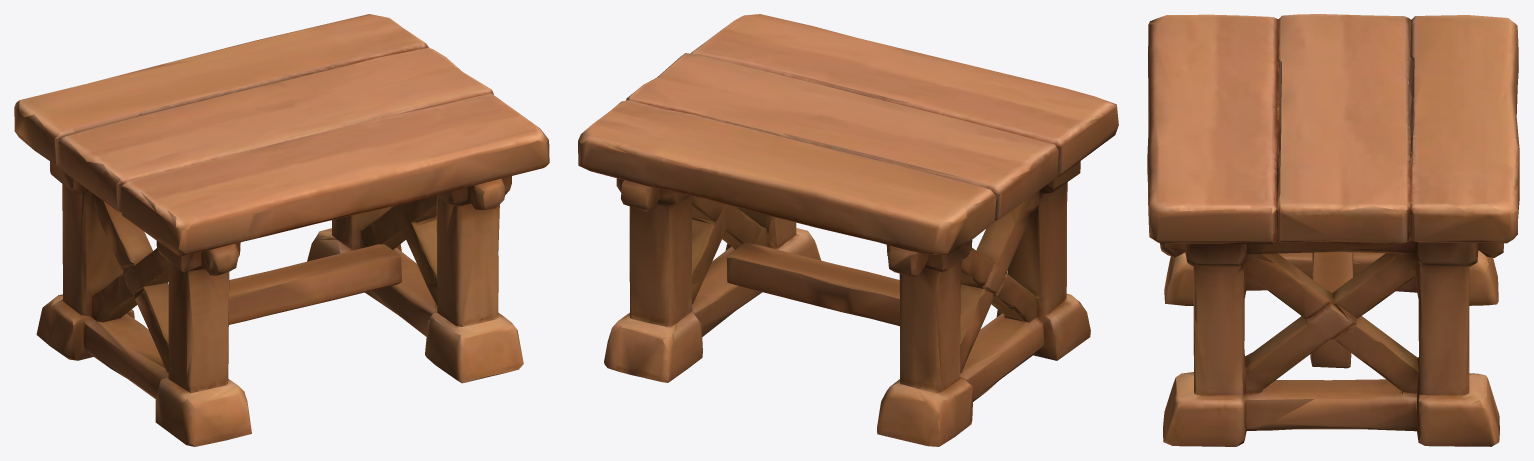
Rendered from table08.glb.
3 views of the same model, side by side, from view 1: azimuth 30°, elevation 25°; view 2: azimuth 150°, elevation 25°; view 3: azimuth 270°, elevation 25° (orthographic). The views are drawn at different scales.
Size of the model in its own units: 0.2501 by 0.15 by 0.2011.
Materials: 1 (1 with a texture image).
